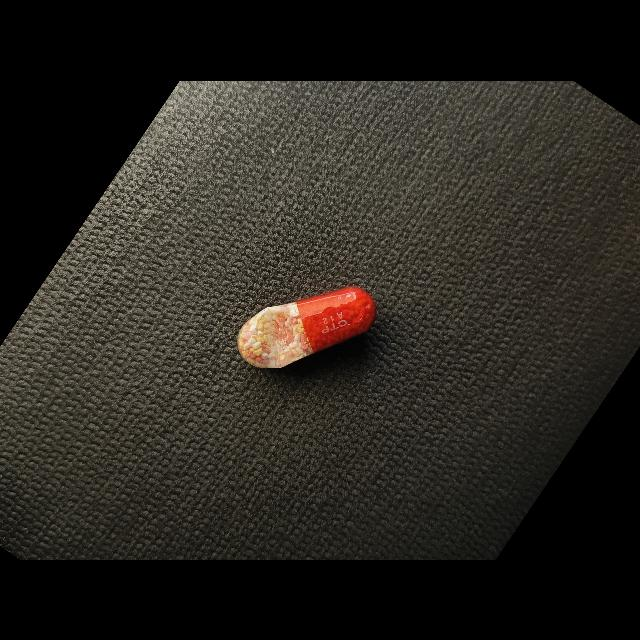Defective Capsule: (237, 286, 377, 368)
